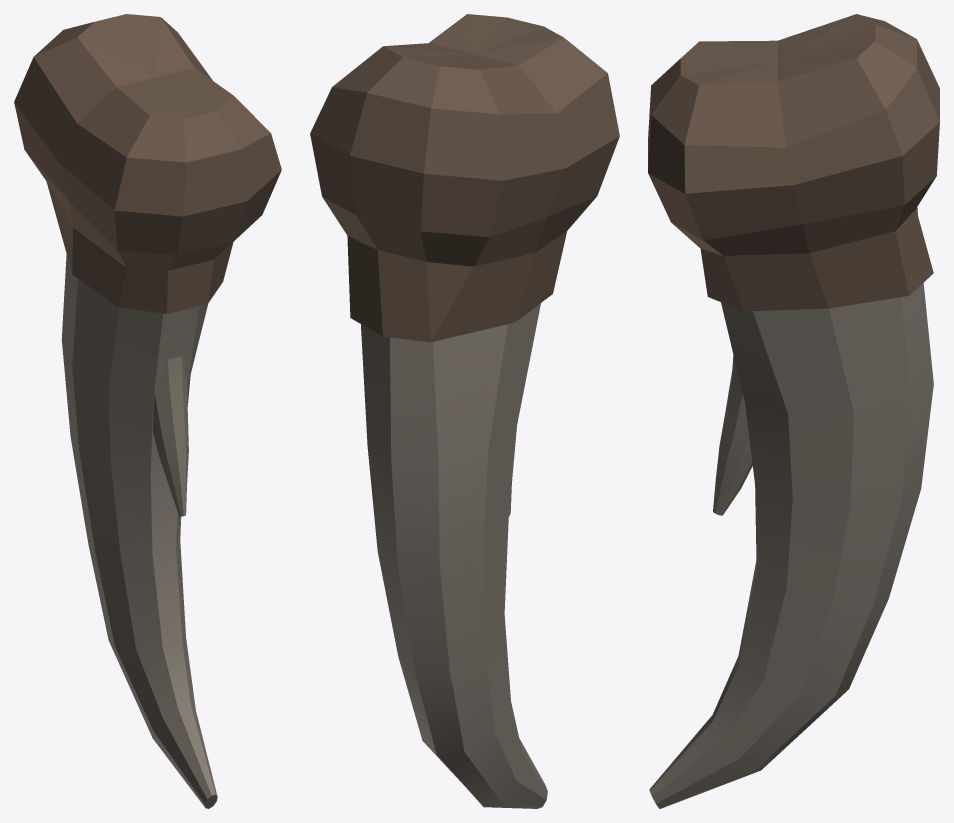
File: Dent_de_drake (1).fbx
3 views of the same model, side by side, from view 1: azimuth 30°, elevation 25°; view 2: azimuth 150°, elevation 25°; view 3: azimuth 270°, elevation 25° (orthographic). The views are drawn at different scales.
Visible parts, largest first — view 1: Dent1; view 2: Dent1; view 3: Dent1.
Part boxes in pixels (<box>): Dent1: <box>14,14,281,808</box>; Dent1: <box>310,14,619,808</box>; Dent1: <box>648,14,939,808</box>.
Size of the model in its own units: 7.21 by 28.55 by 9.73.
